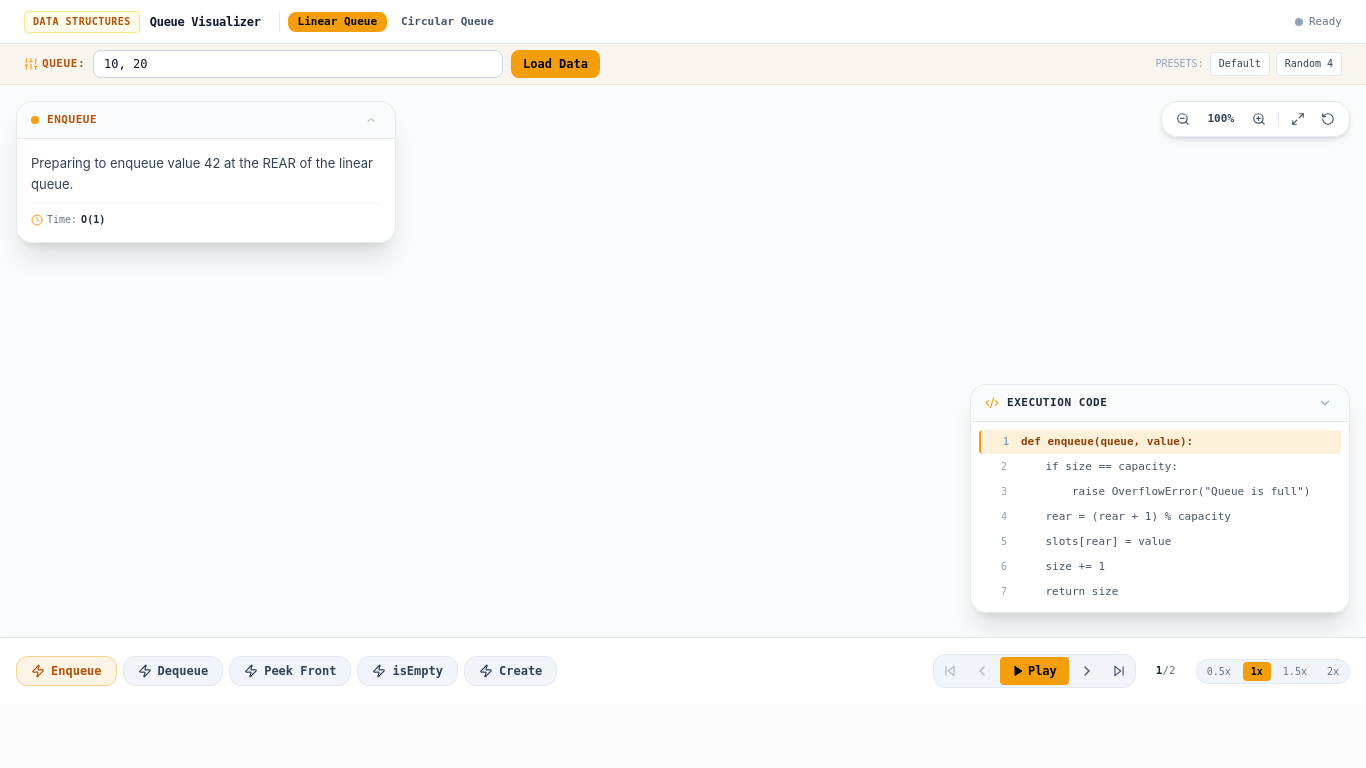
it: QueueVisualizerShell Component › switches to Circular Queue variant and displays circular ring buffer mechanics
Switch to Circular variant
Click the button "Circular Queue" at point(447, 22), box [391,12,504,32]
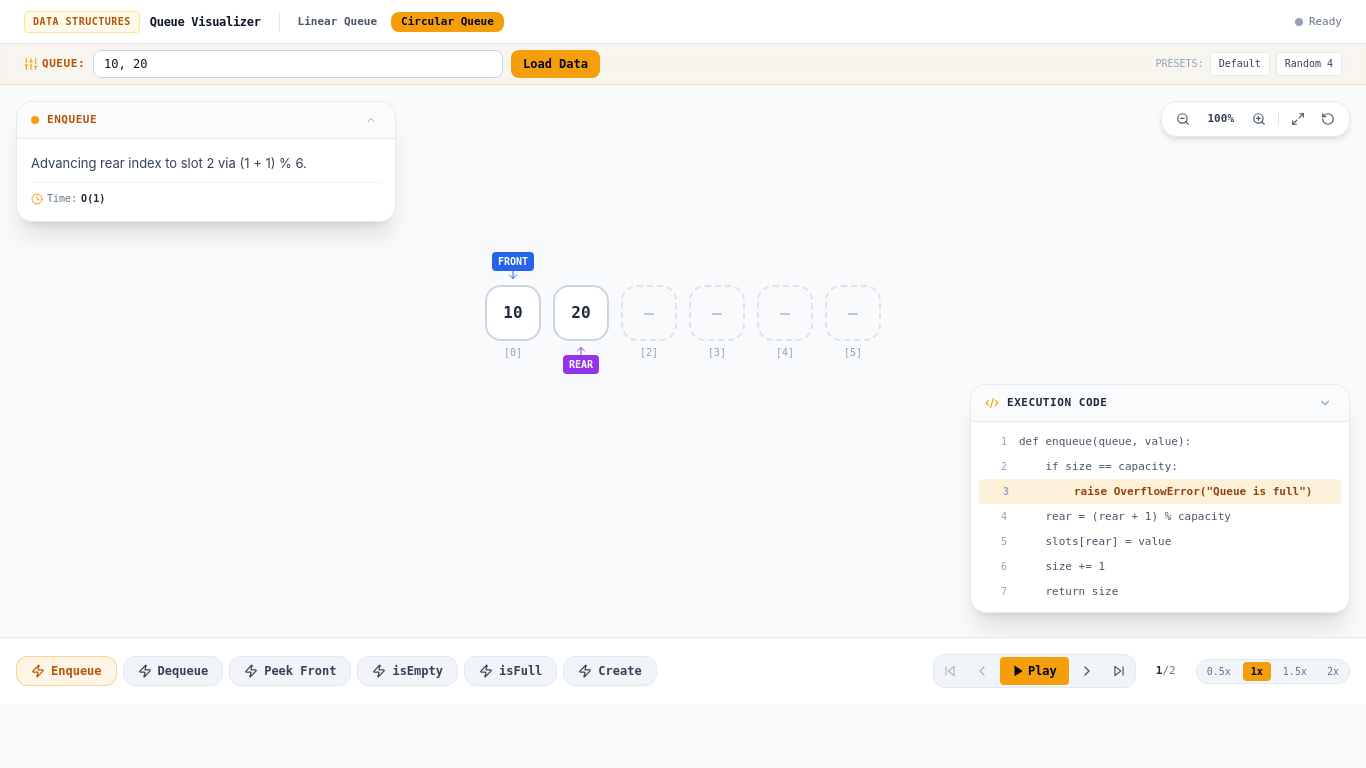
Check: the button "isFull" is shown, box [464,656,557,686]
